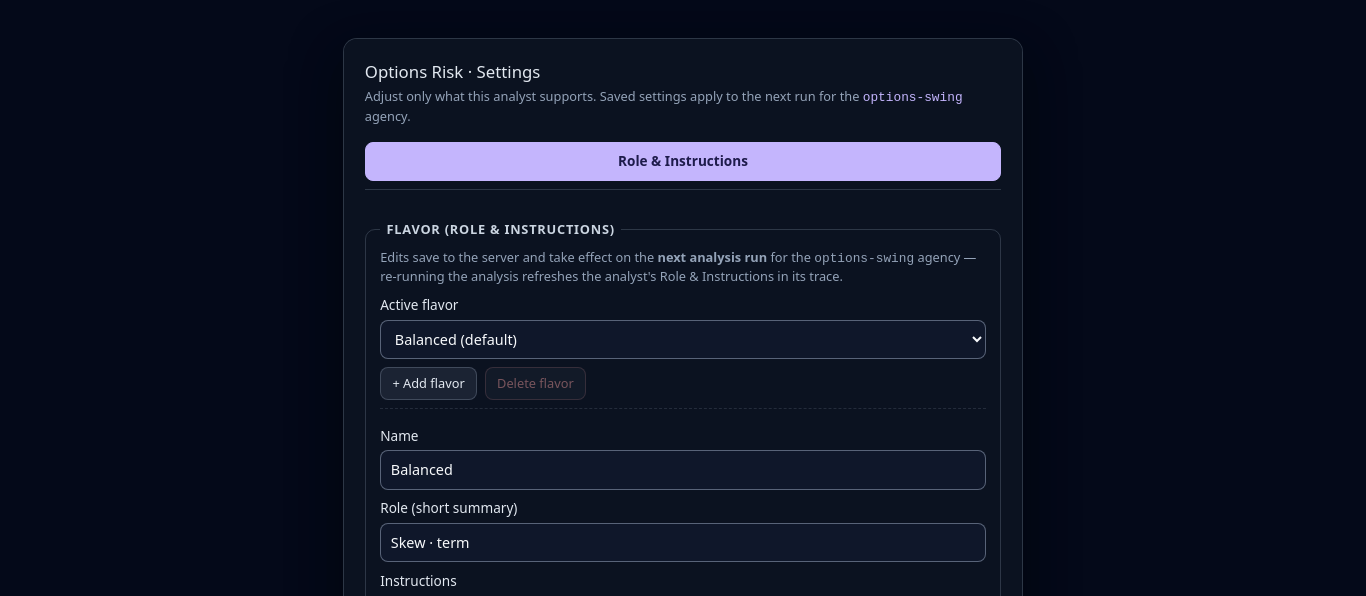
Test: AnalystSettingsDialog Flavor section › §10.6: Add flavor creates a 3rd option and Delete is disabled while only one remains
This screenshot has width=1366, height=596.
expect the button "Delete flavor" is disabled: met, box [485,368,586,400]
Note: Add flavor → 2 options, delete now enabled.
Click the button "+ Add flavor" at (429, 384), box [380,368,477,400]
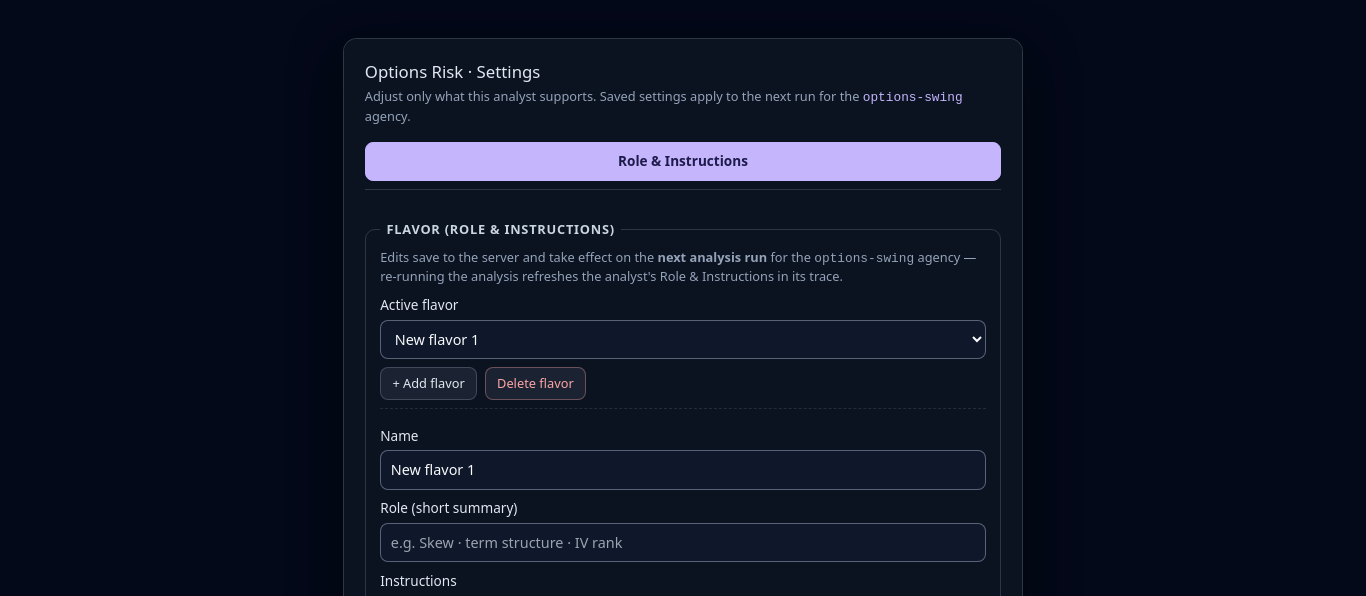
expect the button "Delete flavor" is enabled: met, box [485,368,586,400]
expect the dropdown named "Options Risk flavor" shows "New flavor 1": met, box [380,320,986,359]
